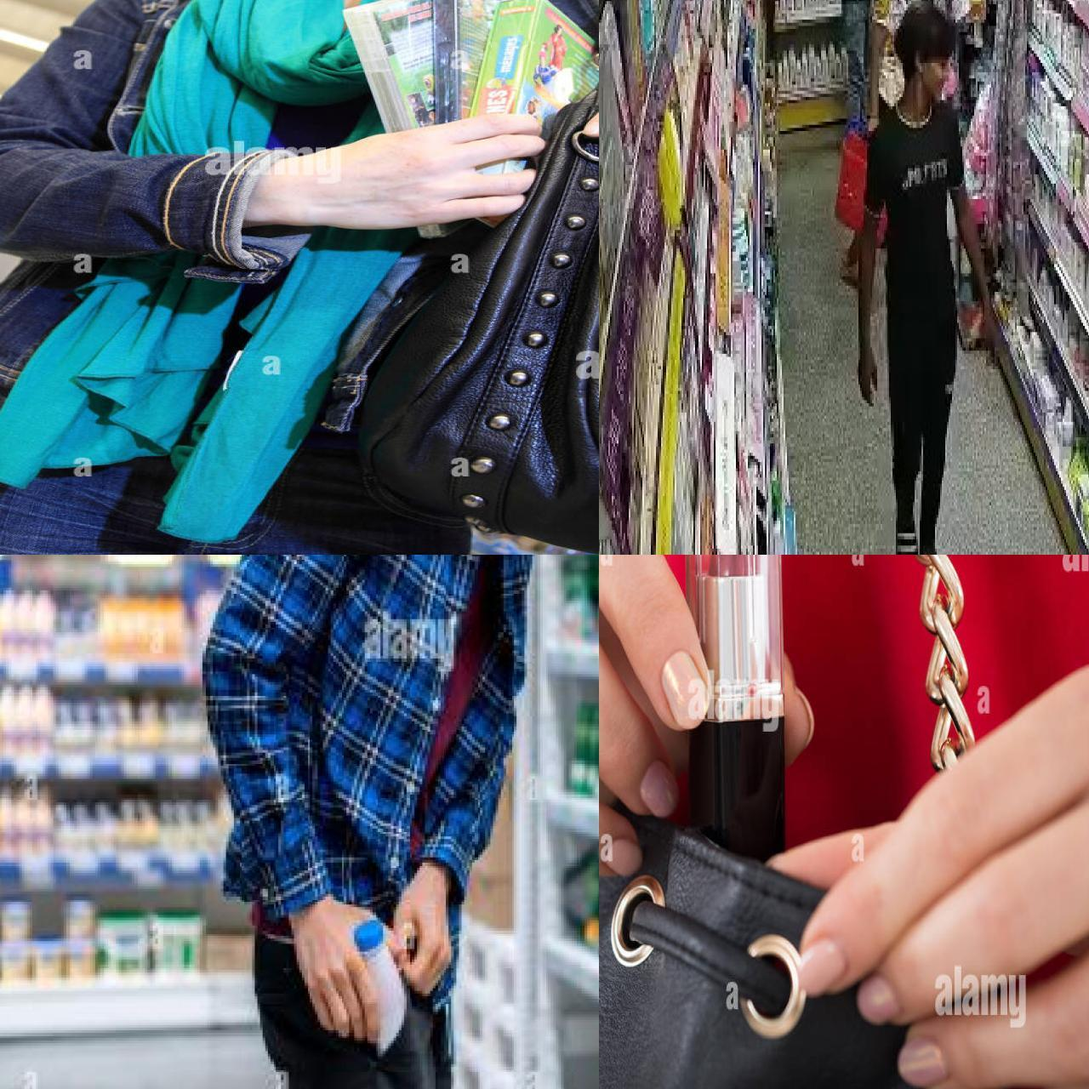shoplifting: (37, 0, 604, 519), (601, 554, 1089, 1089), (0, 685, 584, 1089)
